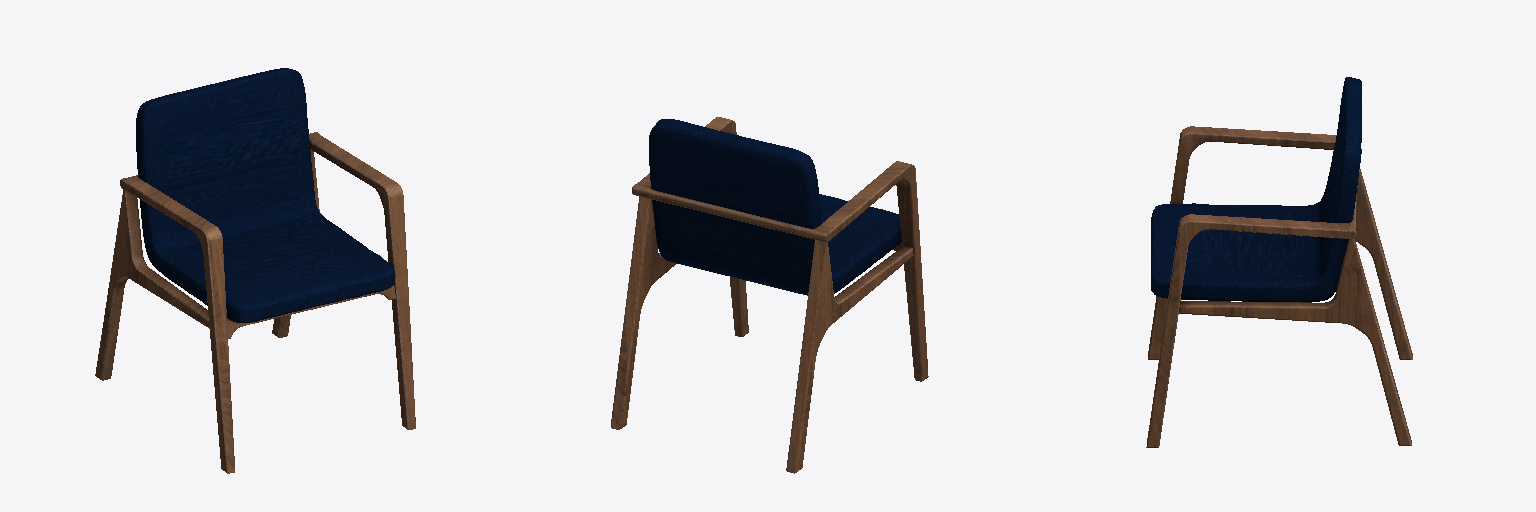
3 views of the same model, side by side, from view 1: azimuth 30°, elevation 25°; view 2: azimuth 150°, elevation 25°; view 3: azimuth 270°, elevation 25° (orthographic).
Visible parts, largest first — view 1: solid_001, solid_003; view 2: solid_001, solid_003; view 3: solid_003, solid_001.
Boxes of the visible parts, <box> form: solid_001: <box>136,68,394,322</box>; solid_003: <box>95,132,415,473</box>; solid_001: <box>649,119,901,295</box>; solid_003: <box>611,117,928,473</box>; solid_003: <box>1146,126,1412,447</box>; solid_001: <box>1151,77,1361,301</box>.
Bounding box in the file's own units: 0.9918 × 1.42 × 1.17.
1 materials, 1 textured.